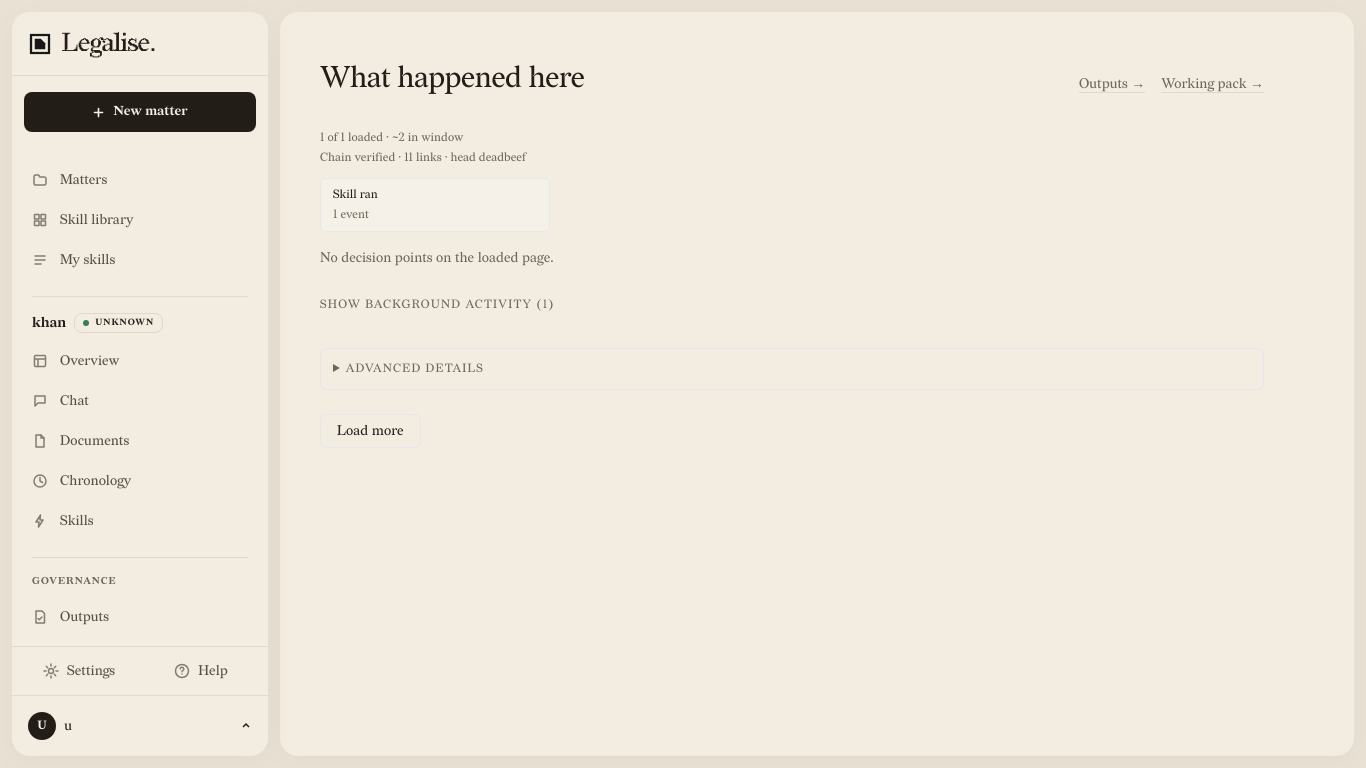
ReconstructionView — pagination › loads more rows via the next_cursor
Click the button with test id "toggle-background": (437, 304) top-left (320, 296), bottom-right (554, 312)
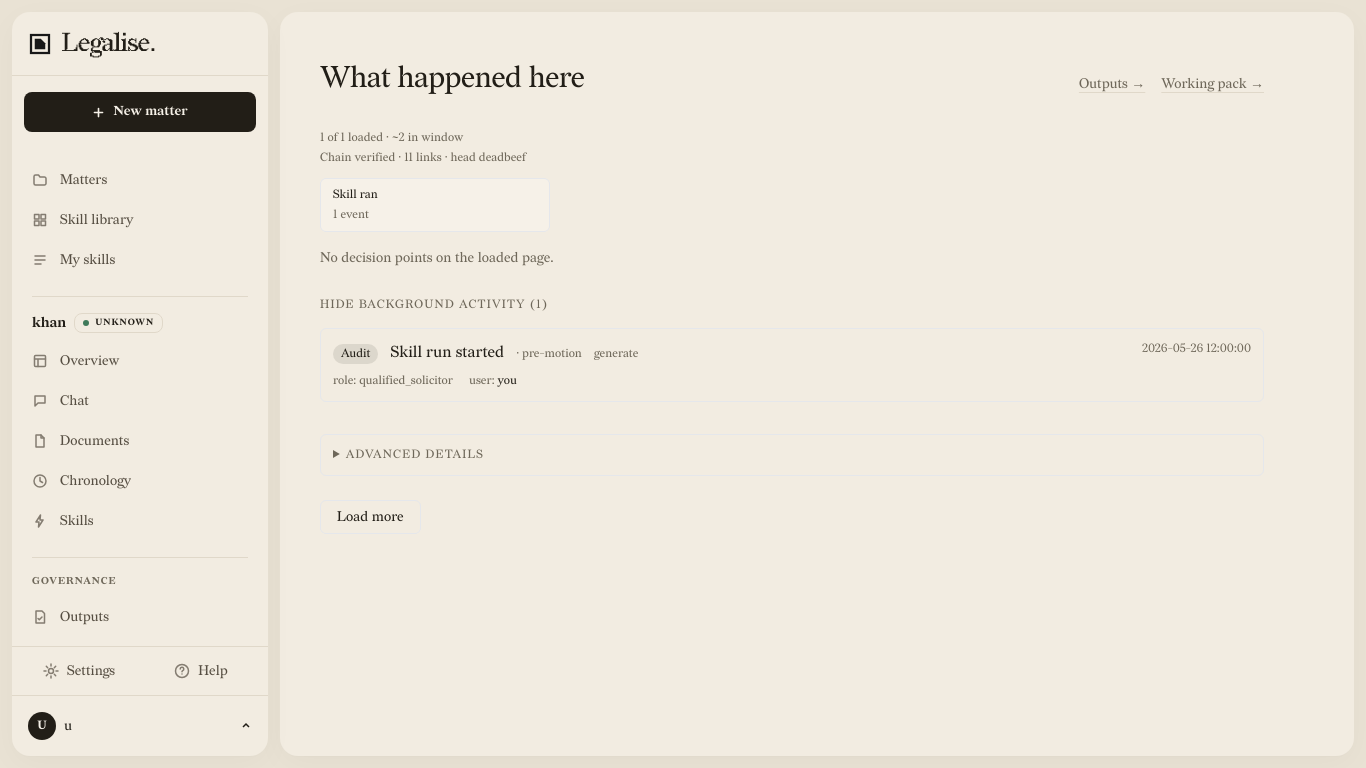
Result: the list item with test id "timeline-row-r-1" is shown at top-left (320, 328), bottom-right (1264, 402)
Click the button "Load more": (370, 516) top-left (320, 500), bottom-right (421, 534)
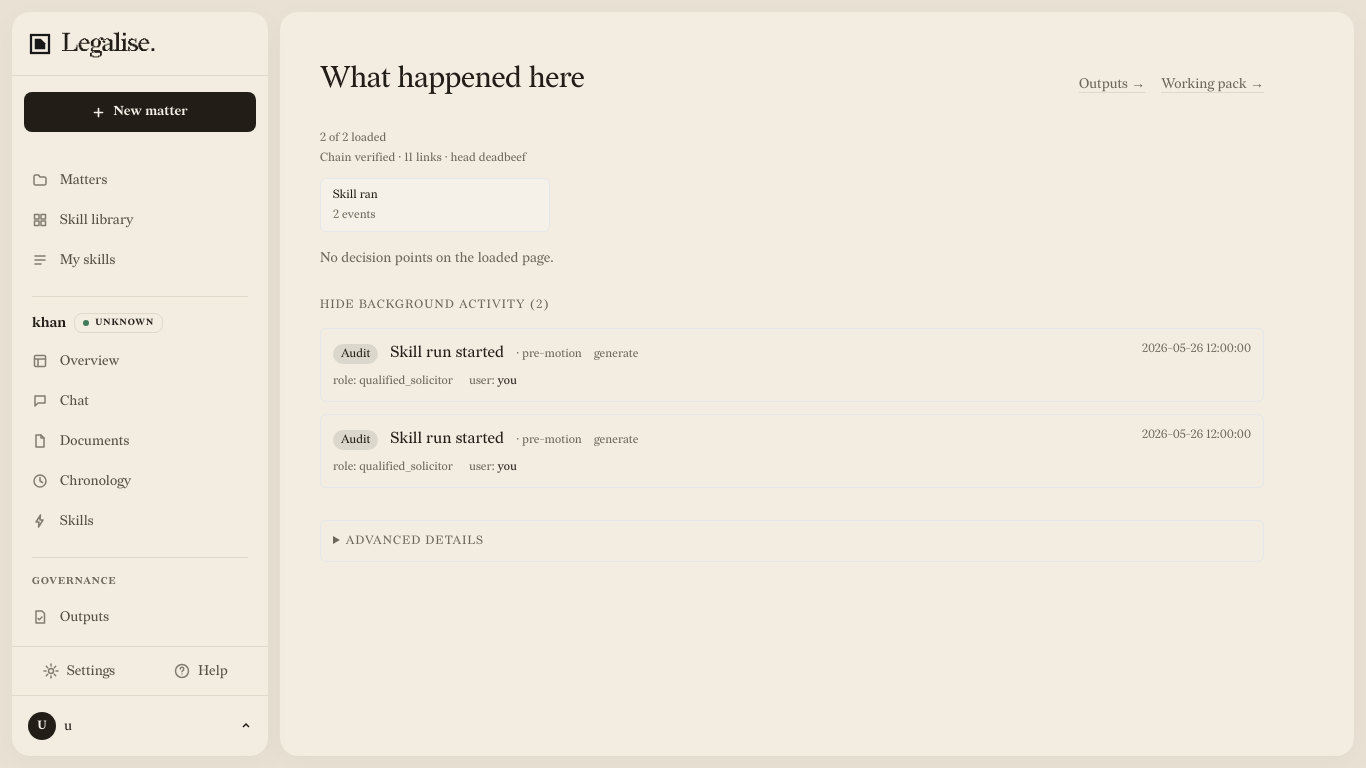
Result: the list item with test id "timeline-row-r-2" is shown at top-left (320, 414), bottom-right (1264, 488)
